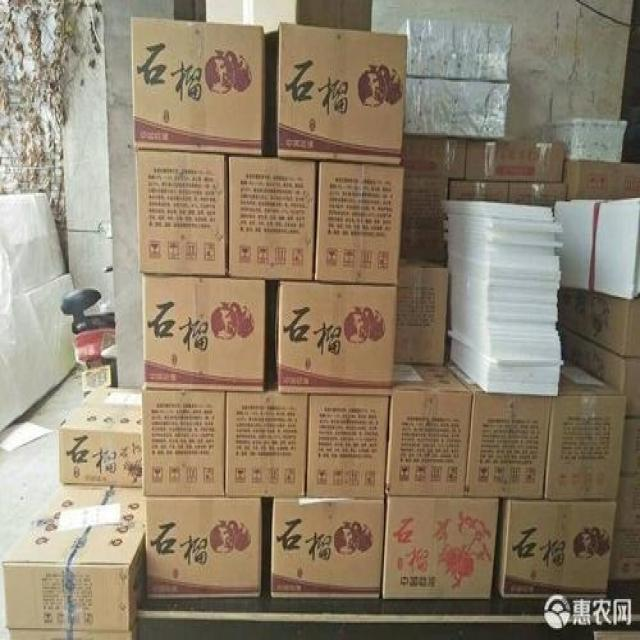box: (3, 486, 145, 631), (129, 17, 266, 155), (276, 24, 407, 166), (142, 276, 266, 393), (274, 280, 397, 396), (445, 365, 552, 498), (493, 500, 616, 599), (383, 495, 499, 599), (134, 148, 228, 276), (145, 497, 262, 599), (558, 326, 640, 471), (271, 498, 385, 599), (385, 364, 472, 495), (544, 362, 626, 500), (314, 160, 404, 285), (229, 155, 316, 282), (227, 381, 308, 497), (142, 389, 227, 497), (554, 200, 640, 300), (306, 396, 390, 498), (58, 386, 142, 488), (394, 19, 512, 80), (404, 77, 509, 140), (394, 259, 451, 364), (558, 287, 640, 357), (465, 138, 566, 183), (401, 179, 448, 261), (608, 473, 640, 582), (563, 160, 640, 200), (403, 135, 466, 179), (508, 181, 567, 207), (448, 179, 508, 201)
